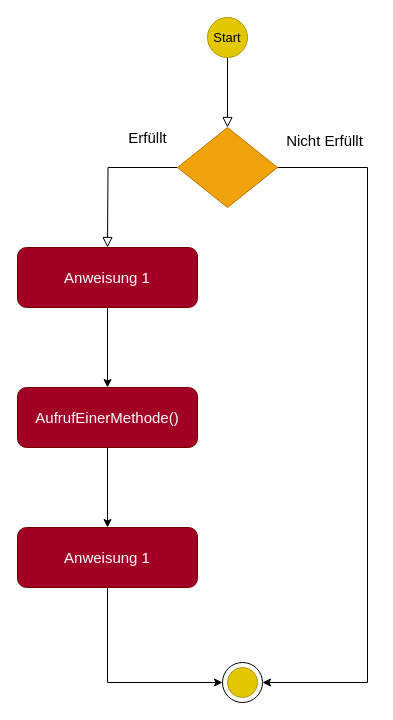
Image size: 393x720. Some labels were removed from this diagram. The centre of each missing label's shape, as x and y in pixels:
"Bedingung" belongs at (x=227, y=167).
"Ende" belongs at (x=242, y=682).
